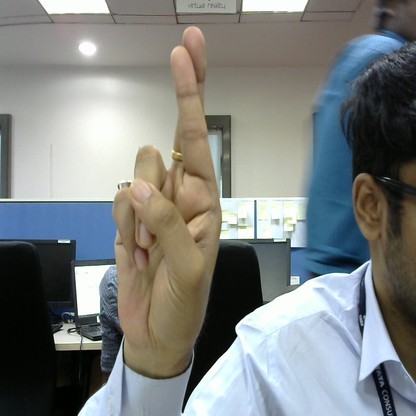r: (103, 24, 226, 353)
